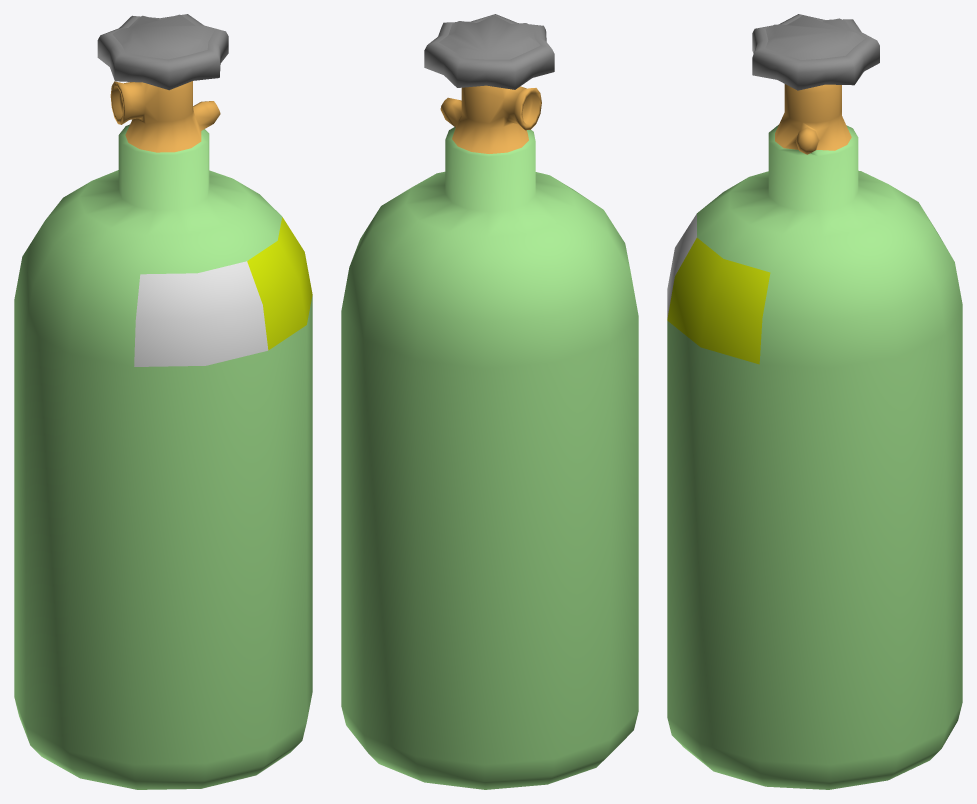
File: o2Tank.fbx
3 renders of one model, left to right at view 1: azimuth 30°, elevation 25°; view 2: azimuth 150°, elevation 25°; view 3: azimuth 270°, elevation 25°, orthographic.
Visible parts, largest first — view 1: Circle.001, Circle.002; view 2: Circle.001, Circle.002; view 3: Circle.001, Circle.002.
Boxes of the visible parts, x1=… form: Circle.001: x1=14, y1=81, x2=312, y2=789; Circle.002: x1=97, y1=14, x2=228, y2=90; Circle.001: x1=341, y1=85, x2=638, y2=789; Circle.002: x1=424, y1=14, x2=554, y2=89; Circle.001: x1=667, y1=84, x2=962, y2=789; Circle.002: x1=752, y1=14, x2=879, y2=90.
Size of the model in its own units: 199 by 520 by 197.
